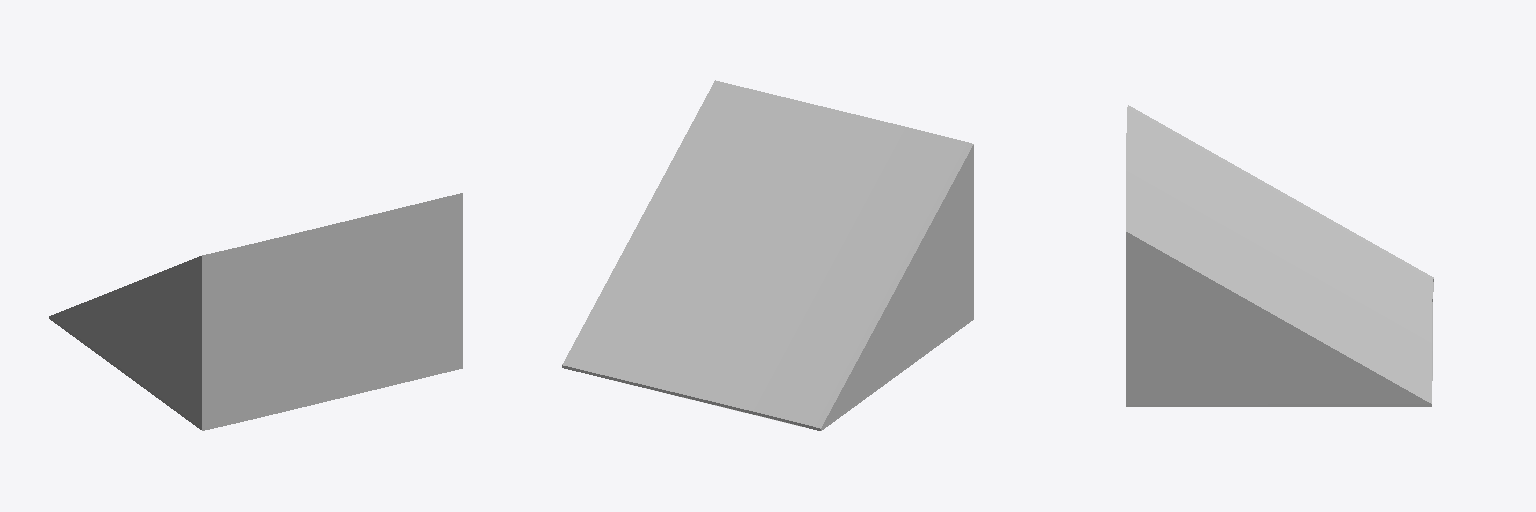
The model's file is B2Clliff.obj.
3 views of the same model, side by side, from view 1: azimuth 30°, elevation 25°; view 2: azimuth 150°, elevation 25°; view 3: azimuth 270°, elevation 25° (orthographic).
Parts seen in each view (by area): view 1: Cliff_Segment_2_Landscape.013; view 2: Cliff_Segment_2_Landscape.013; view 3: Cliff_Segment_2_Landscape.013.
Boxes of the visible parts, <box> form: Cliff_Segment_2_Landscape.013: <box>49,193,462,430</box>; Cliff_Segment_2_Landscape.013: <box>562,80,973,430</box>; Cliff_Segment_2_Landscape.013: <box>1126,105,1433,406</box>.
Size of the model in its own units: 1.96 by 1.27 by 2.01.